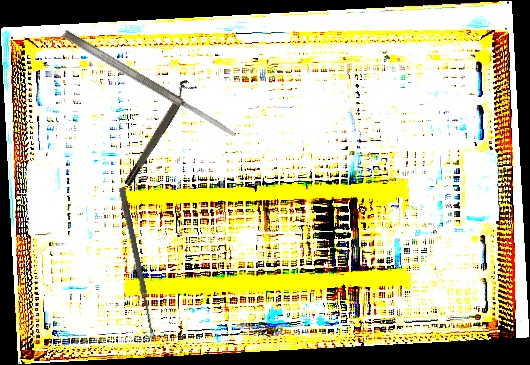Fixation Ring: (117, 78, 198, 188)
Spatula Surgical: (61, 28, 239, 141)
Surgical Spoon: (117, 186, 158, 343)
